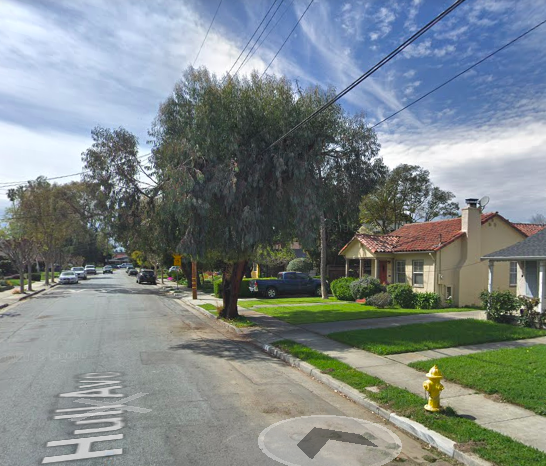tree: (147, 63, 344, 320)
